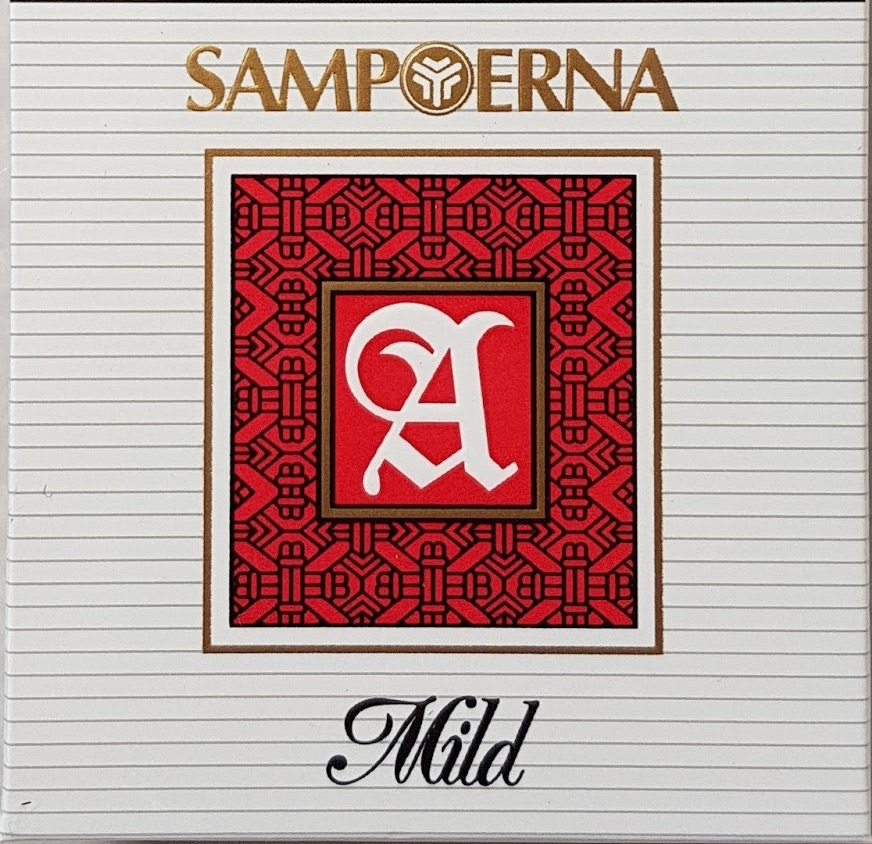A Mild: (18, 5, 868, 838)
